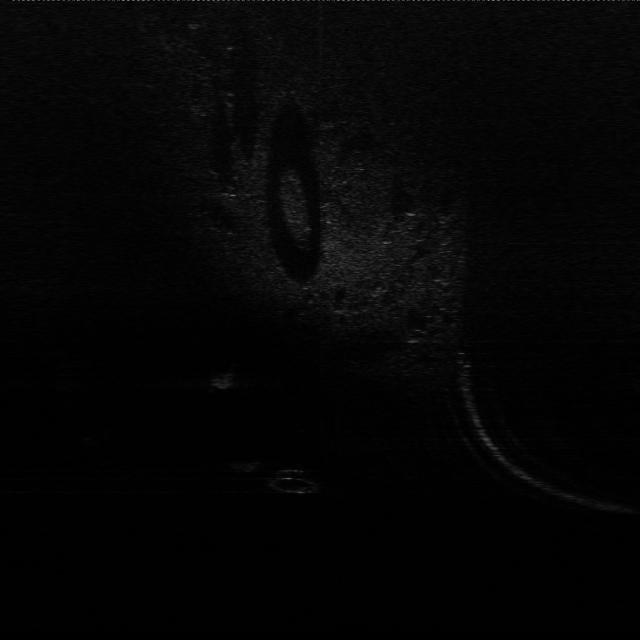cube: (222, 451, 267, 476)
square cage: (203, 368, 238, 392)
tyre: (272, 464, 322, 496)
